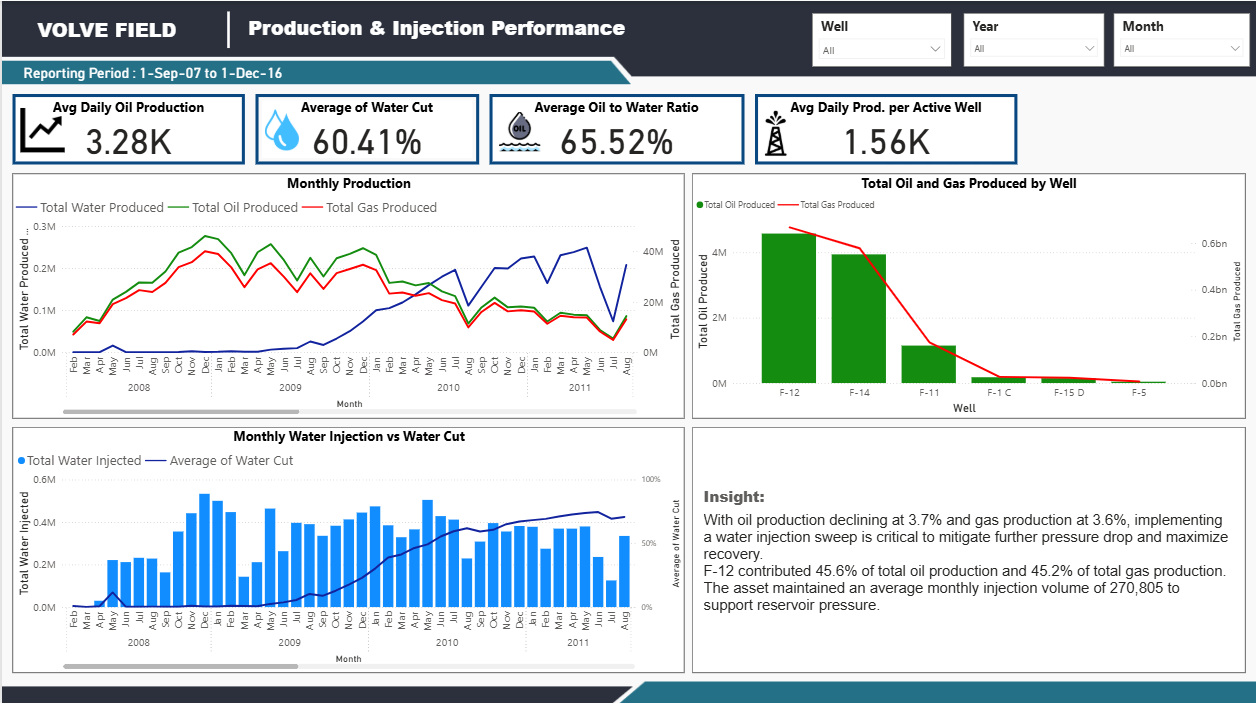

What the dashboard file says about the page in this screenshot:
{"tool":"powerbi","page":{"name":"Production & Injection Performance","canvas":[1920,1080],"ordinal":1},"visuals":[{"type":"textbox","title":"Production & Injection Performance","box":[372.3,20.7,1054.7,46],"z":0},{"type":"shape","title":"Vertical","box":[321.9,15,50.5,56],"z":1000},{"type":"group","id":"g1","title":"Filter","box":[0,0,1920.6,1080],"z":2000},{"type":"lineChart","title":"Monthly Production","fields":{"Category":["Date.Year Hierarchy.Year","Date.Year Hierarchy.Month"],"Y":["Sum(Daily Production Data.BORE_WAT_VOL)","Sum(Daily Production Data.BORE_OIL_VOL)"],"Y2":["Sum(Daily Production Data.BORE_GAS_VOL)"]},"box":[16.8,264.3,1029.4,375],"z":3000},{"type":"slicer","fields":{"Values":["Date.Month"]},"box":[1702.7,17.6,209.1,82.7],"z":4000},{"type":"slicer","fields":{"Values":["Daily Production Data.WELLBORE NAME"]},"box":[1240.9,17.6,213.7,82.7],"z":5000},{"type":"textbox","title":"VOLVE FIELD","box":[11.5,23,298.7,39.1],"z":6000},{"type":"cardVisual","fields":{"Data":["Daily Production Data.Reporting Period"]},"box":[16.1,71.2,478,71.2],"z":7000},{"type":"lineStackedColumnComboChart","title":"Total Oil and Gas Produced by Well","fields":{"Category":["Daily Production Data.WELLBORE NAME"],"Y":["Sum(Daily Production Data.BORE_OIL_VOL)"],"Y2":["Sum(Daily Production Data.BORE_GAS_VOL)"]},"box":[1057,264.3,847.9,375],"z":8000},{"type":"lineClusteredColumnComboChart","title":"Monthly Water Injection vs Water Cut","fields":{"Category":["Date.Year Hierarchy.Year","Date.Year Hierarchy.Month"],"Y":["Sum(Production.BORE_WI_VOL)"],"Y2":["Production.Average of Water Cut"]},"box":[16.1,652.6,1029.4,376.9],"z":9000},{"type":"cardVisual","fields":{"Data":["Daily Production Data.Average of Daily Oil Production"]},"box":[16.1,142.5,356.2,108],"z":10000},{"type":"cardVisual","fields":{"Data":["Production.Average of Water Cut"]},"box":[388.3,142.5,342.4,108],"z":10000,"group":"g2"},{"type":"cardVisual","fields":{"Data":["Production.Average Oil to Water Ratio"]},"box":[746.8,142.5,390.6,108],"z":11000,"group":"g2"},{"type":"image","box":[16.1,158.6,91.9,78.1],"z":11000},{"type":"slicer","fields":{"Values":["Date.Year"]},"box":[1472.9,17.6,216,82.7],"z":12000},{"type":"cardVisual","fields":{"Data":["Production.Insight Production"]},"box":[1057,652.6,847.9,376.9],"z":13000},{"type":"group","id":"g2","title":"Group 1","box":[388.3,142.5,749.1,108],"z":14000},{"type":"image","box":[397.5,156.3,62,82.7],"z":14000,"group":"g2"},{"type":"cardVisual","fields":{"Data":["Production.Avg Daily Prod. per Active Well"]},"box":[1153.5,142.5,402.1,108],"z":15000},{"type":"image","box":[756,160.9,73.5,78.1],"z":15000,"group":"g2"},{"type":"image","box":[1142,160.9,87.3,82.7],"z":16000}]}

Visuals, with their boxes in screenshot pixels (x1, y1, x2, y2), scaled from the page's 1920x1080 canvas onto the 1256x703 screenshot:
"Production & Injection Performance" textbox: 244/13/933/43
"Vertical" shape: 211/10/244/46
"Filter" group: 0/0/1255/702
"Monthly Production" lineChart: 11/172/684/416
slicer - Date.Month: 1114/11/1251/65
slicer - Daily Production Data.WELLBORE NAME: 812/11/952/65
"VOLVE FIELD" textbox: 8/15/203/40
cardVisual - Daily Production Data.Reporting Period: 11/46/323/93
"Total Oil and Gas Produced by Well" lineStackedColumnComboChart: 691/172/1246/416
"Monthly Water Injection vs Water Cut" lineClusteredColumnComboChart: 11/425/684/670
cardVisual - Daily Production Data.Average of Daily Oil Production: 11/93/244/163
cardVisual - Production.Average of Water Cut: 254/93/478/163
cardVisual - Production.Average Oil to Water Ratio: 489/93/744/163
image: 11/103/71/154
slicer - Date.Year: 964/11/1105/65
cardVisual - Production.Insight Production: 691/425/1246/670
"Group 1" group: 254/93/744/163
image: 260/102/301/156
cardVisual - Production.Avg Daily Prod. per Active Well: 755/93/1018/163
image: 495/105/543/156
image: 747/105/804/159
